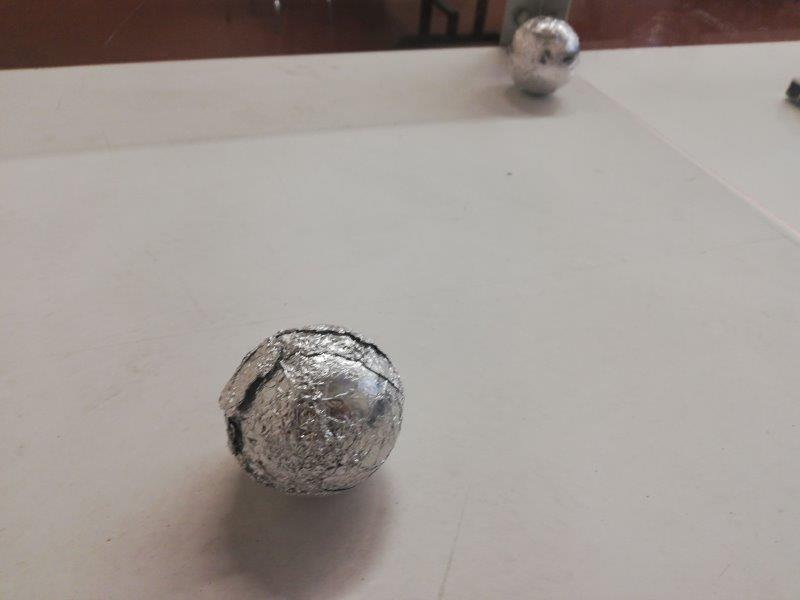bianca: (221, 324, 407, 497), (507, 16, 579, 98)
